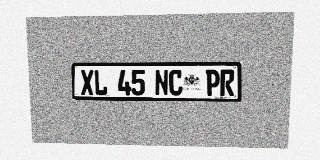4: (118, 70, 131, 95)
5: (131, 70, 145, 95)
C: (169, 70, 183, 96)
L: (94, 70, 107, 95)
N: (155, 70, 168, 96)
P: (205, 69, 220, 96)
R: (220, 69, 235, 96)
X: (80, 70, 94, 95)
